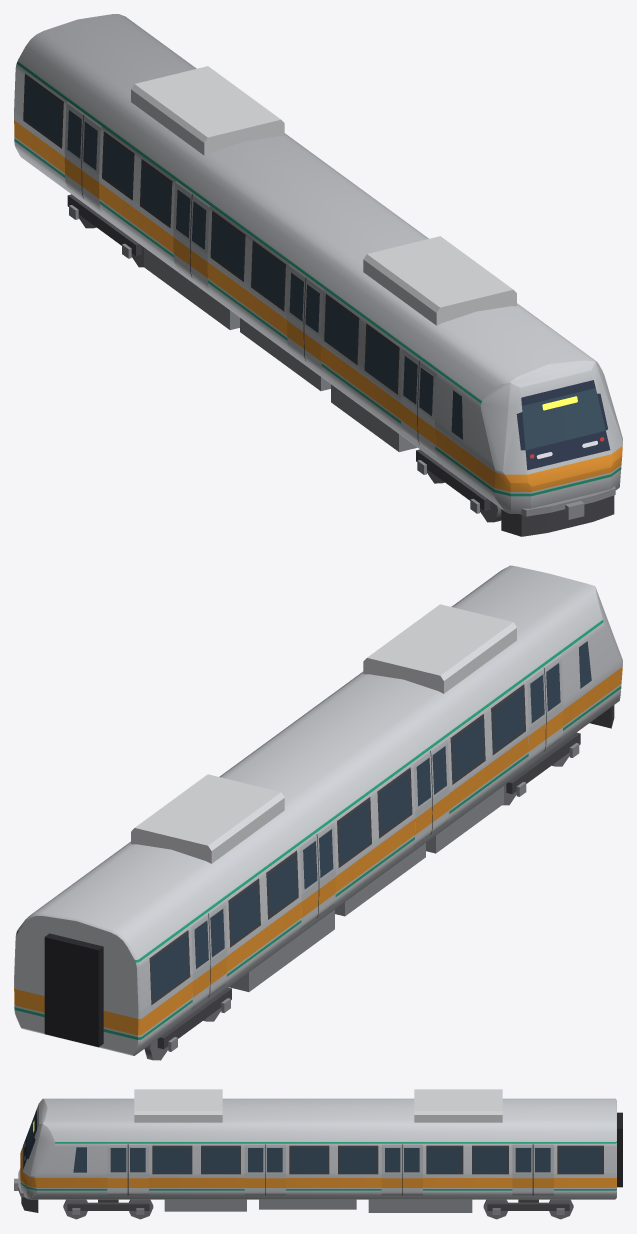
The picture shows the model from 3 angles, top to bottom: view 1: azimuth 30°, elevation 25°; view 2: azimuth 150°, elevation 25°; view 3: azimuth 270°, elevation 25°; orthographic projection. The views are drawn at different scales.
Parts seen in each view (by area): view 1: 328; view 2: 328; view 3: 328.
Part boxes in pixels (left/top/right/bottom): 328: left=14, top=14, right=622, bottom=536; 328: left=14, top=565, right=622, bottom=1060; 328: left=14, top=1089, right=622, bottom=1219.
Bounding box in the file's own units: 2.95 × 3.92 × 20.
